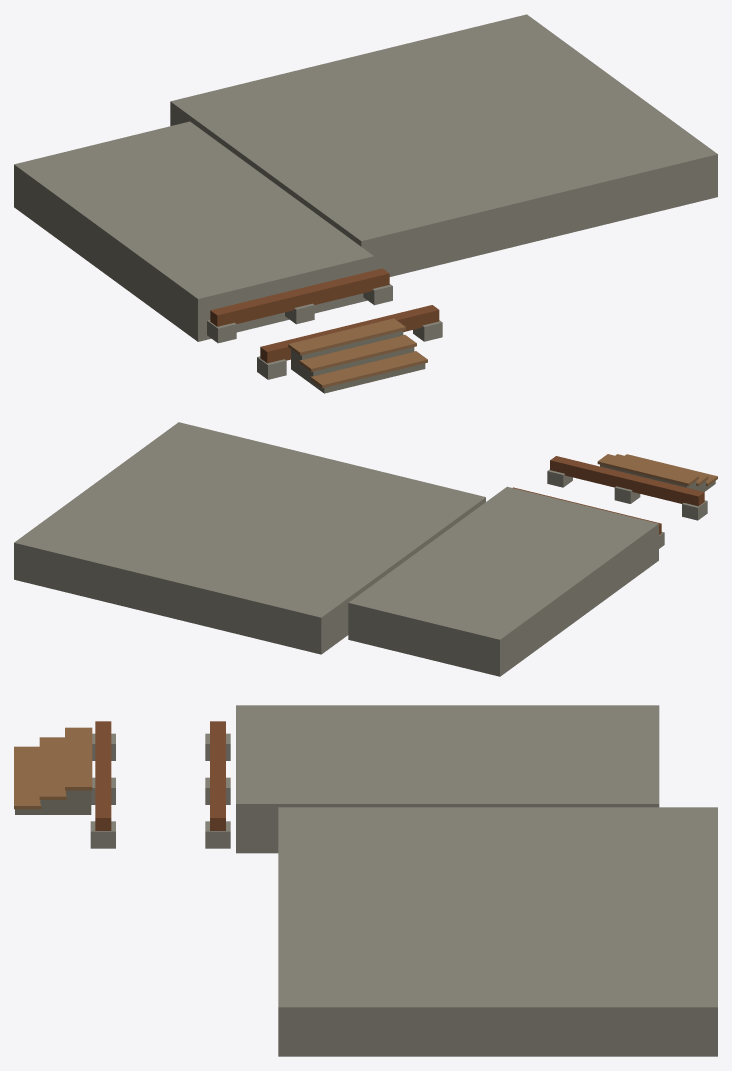
The model's file is screened_entry_site.glb.
3 views of the same model, one above another, from view 1: azimuth 30°, elevation 25°; view 2: azimuth 150°, elevation 25°; view 3: azimuth 270°, elevation 25° (orthographic). The views are drawn at different scales.
Visible parts, largest first — view 1: KitScreenedEntrySiteDetails; view 2: KitScreenedEntrySiteDetails; view 3: KitScreenedEntrySiteDetails.
Boxes of the visible parts, x1,y1,x2,y2 form: KitScreenedEntrySiteDetails: (14, 14, 717, 393); KitScreenedEntrySiteDetails: (14, 422, 717, 676); KitScreenedEntrySiteDetails: (14, 705, 717, 1056).
Size of the model in its own units: 8.41 by 0.64 by 8.28.
